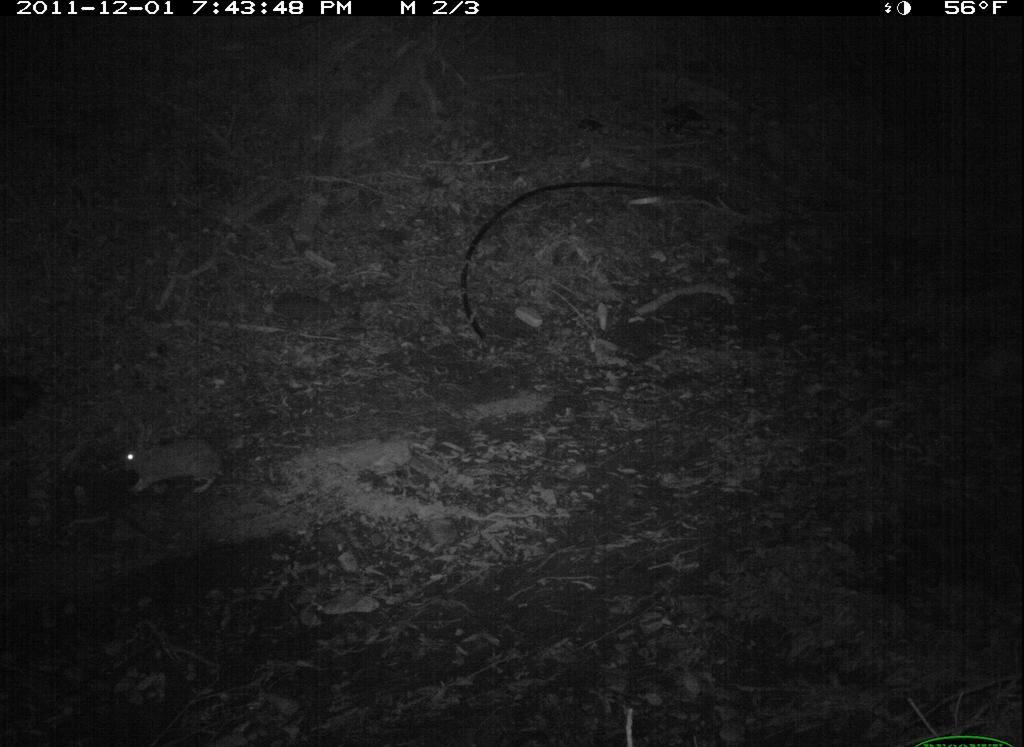rabbit: (113, 419, 235, 504)
